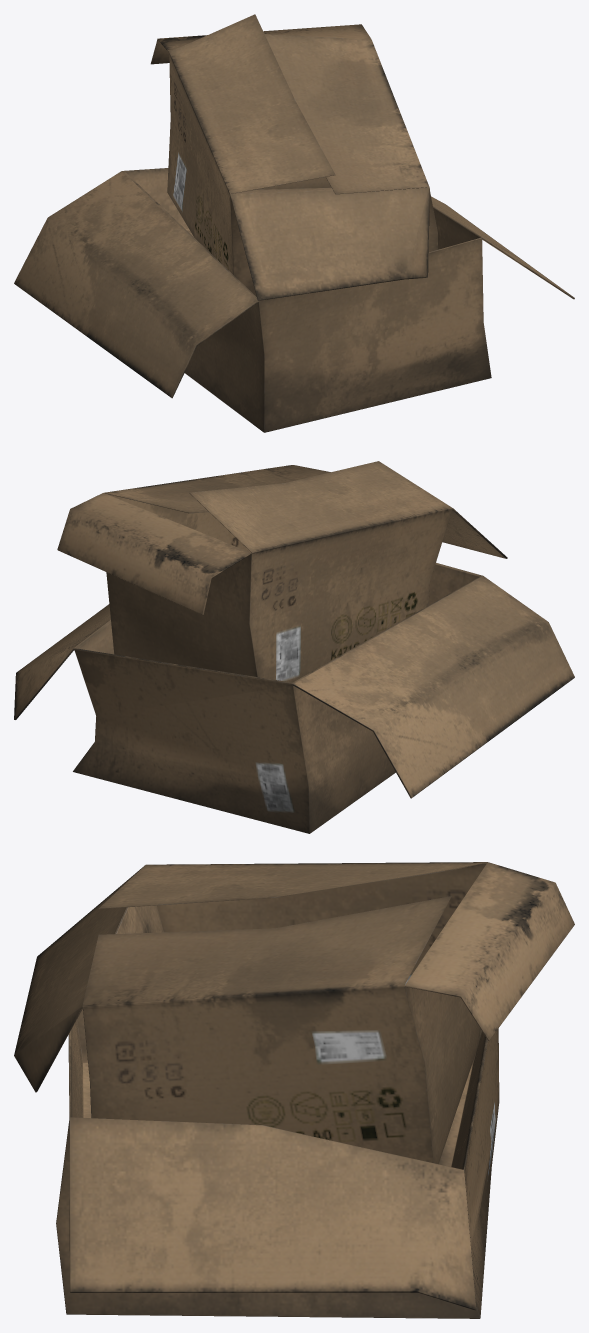
The model's file is Prop_GarbageHeap_Box.fbx.
3 renders of one model, top to bottom at view 1: azimuth 30°, elevation 25°; view 2: azimuth 150°, elevation 25°; view 3: azimuth 270°, elevation 25°, orthographic. The views are drawn at different scales.
Visible parts, largest first — view 1: Prop_GarbageHeap_Box; view 2: Prop_GarbageHeap_Box; view 3: Prop_GarbageHeap_Box.
Boxes of the visible parts, x1,y1,x2,y2 form: Prop_GarbageHeap_Box: (14,14,574,432); Prop_GarbageHeap_Box: (14,461,574,833); Prop_GarbageHeap_Box: (14,862,574,1318).
Bounding box in the file's own units: 45.5 × 30.32 × 40.27.
